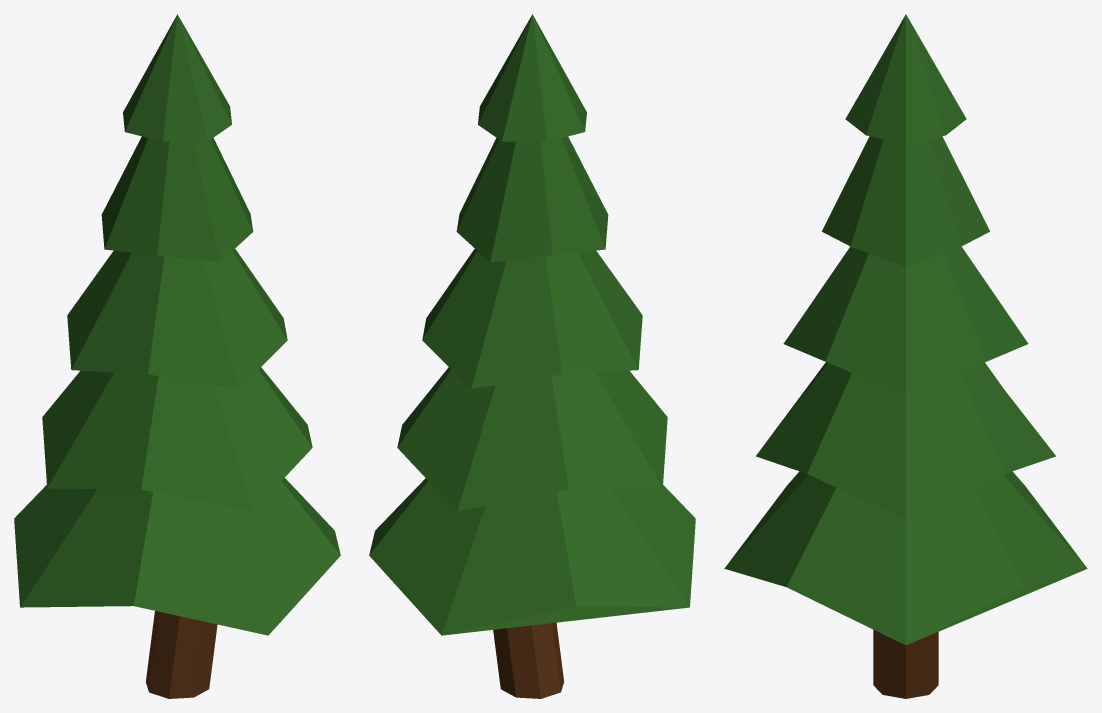
Rendered from tree.fbx.
3 views of the same model, side by side, from view 1: azimuth 30°, elevation 25°; view 2: azimuth 150°, elevation 25°; view 3: azimuth 270°, elevation 25° (orthographic).
Parts seen in each view (by area): view 1: Tree; view 2: Tree; view 3: Tree.
Part boxes in pixels (x1,y1,x2,y2): Tree: (14, 14, 340, 698); Tree: (369, 14, 695, 698); Tree: (724, 14, 1087, 698).
Bounding box in the file's own units: 399 × 813 × 399.
